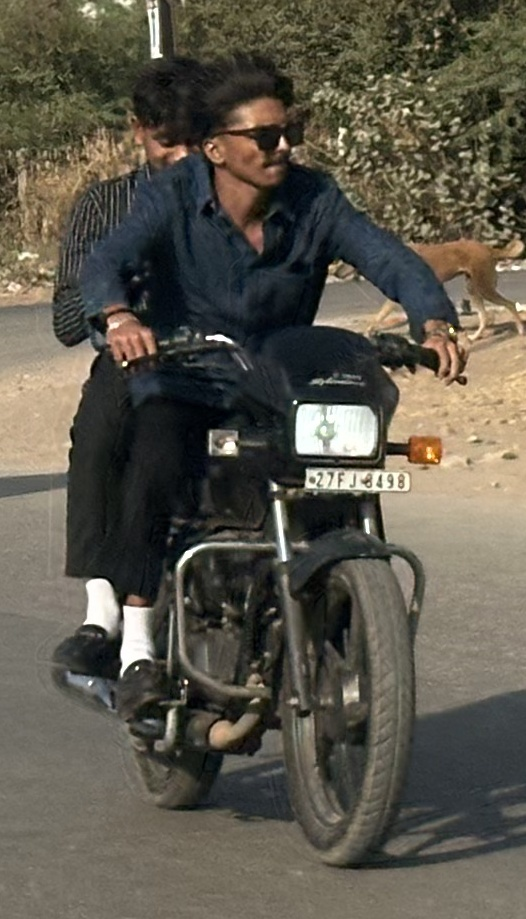BikeWithRider: (34, 40, 482, 875)
NoHelmet: (188, 50, 316, 197), (112, 48, 228, 184)
